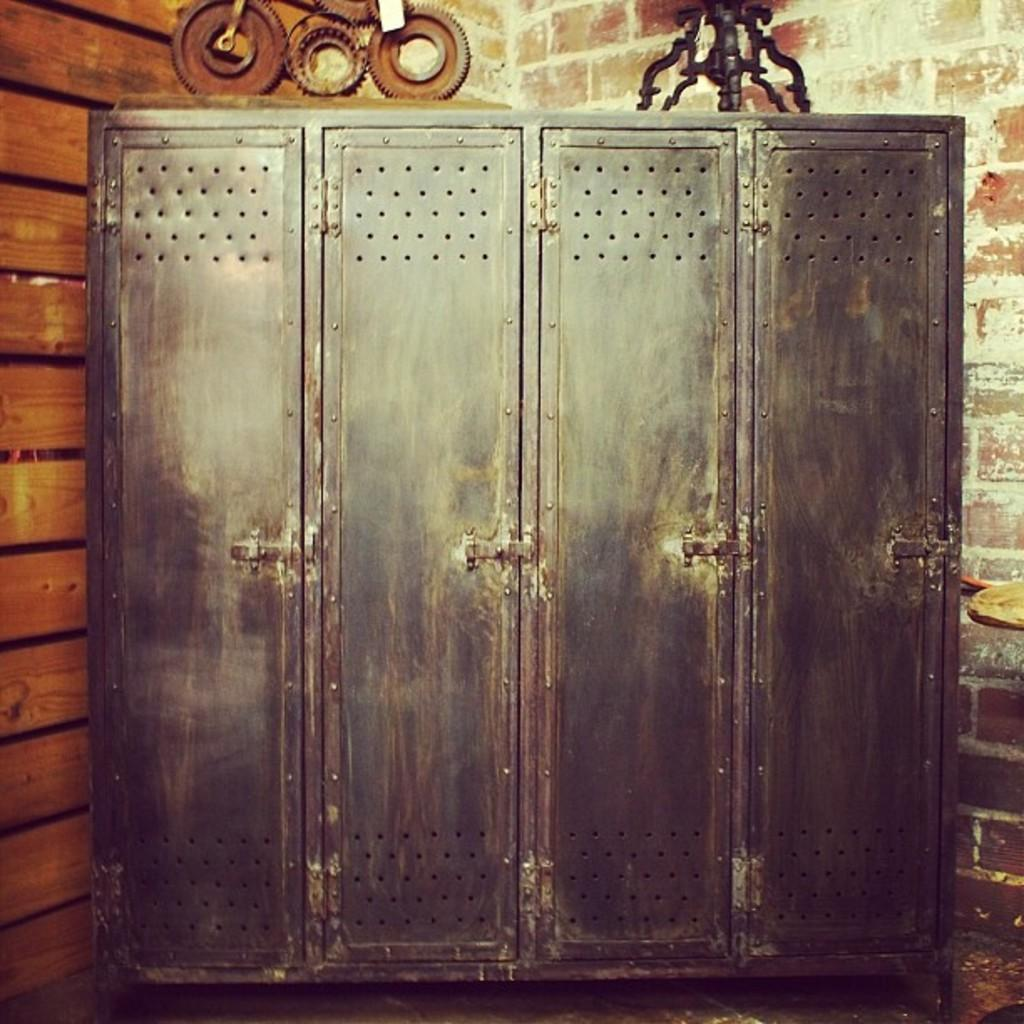door: (742, 116, 966, 972), (530, 110, 733, 966), (326, 131, 520, 936), (111, 131, 297, 946)
handle: (252, 536, 298, 569), (920, 530, 950, 568), (707, 533, 739, 566), (486, 536, 514, 569)
